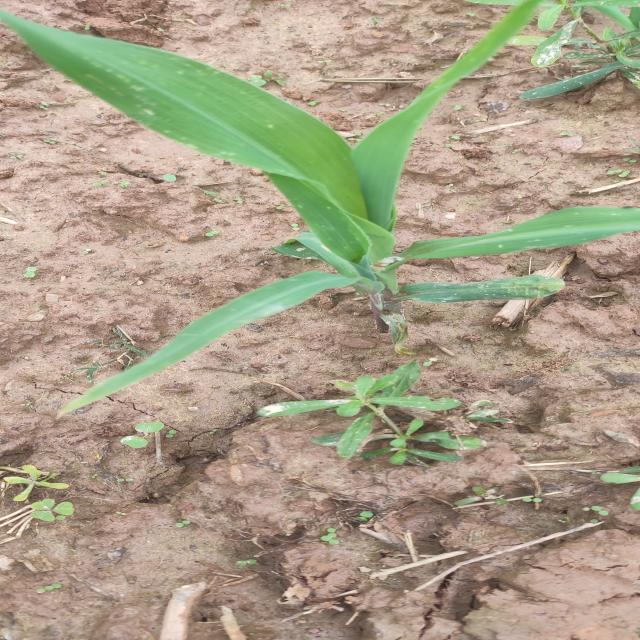maize: (0, 8, 640, 366)
weed: (254, 368, 502, 467), (524, 0, 639, 116), (3, 458, 92, 534), (592, 456, 640, 506), (100, 422, 172, 451), (456, 482, 512, 511), (505, 491, 552, 512), (576, 501, 616, 525), (192, 228, 240, 238), (28, 257, 43, 285), (147, 172, 175, 184)
